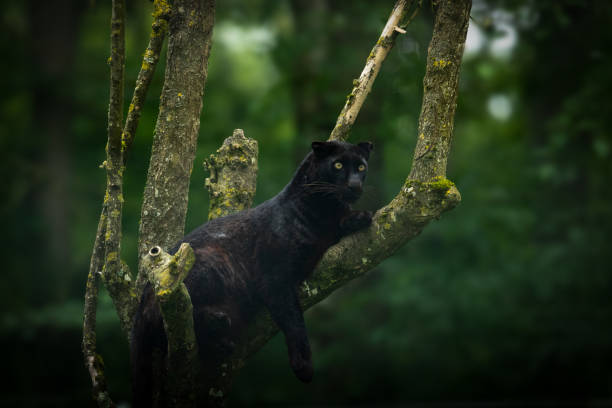panther: (296, 137, 378, 210)
